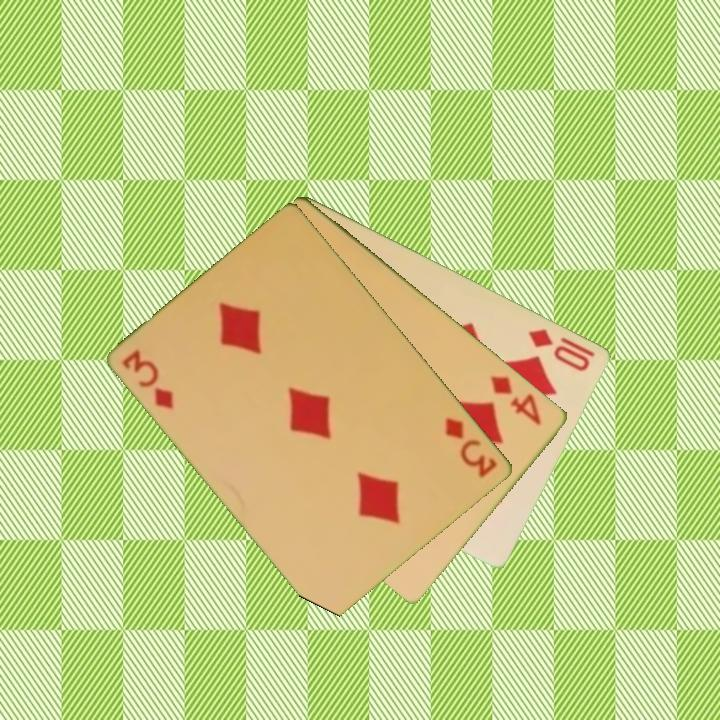10d: (525, 325, 594, 374)
3d: (442, 414, 502, 481), (119, 345, 178, 412)
4d: (487, 372, 545, 428)
